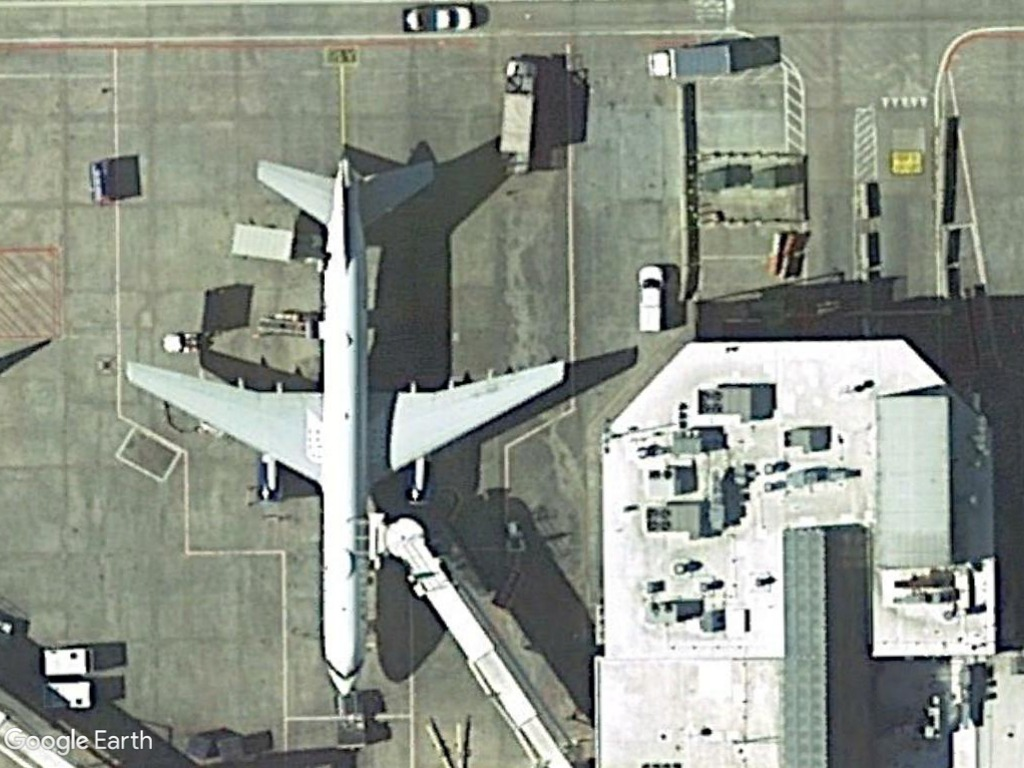airliner: (107, 146, 578, 698)
van: (631, 264, 669, 335)
